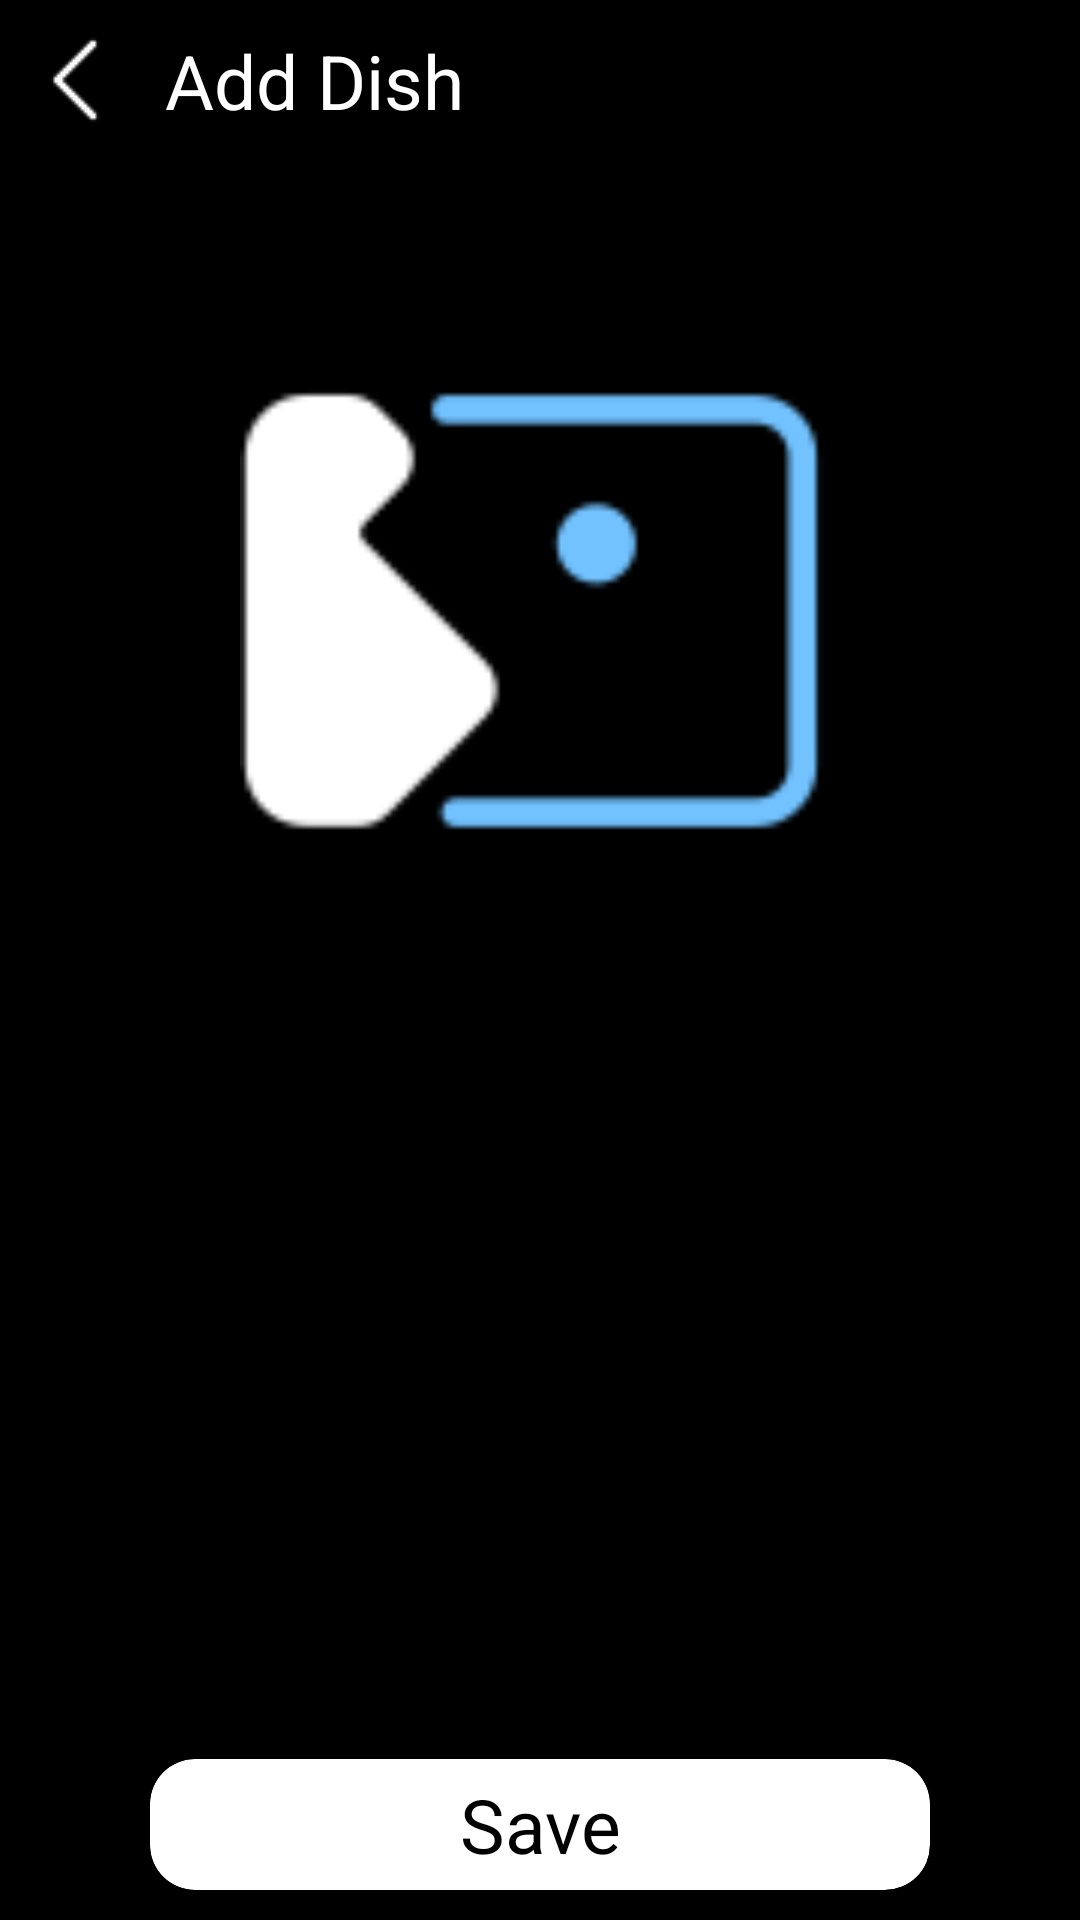

Icon click points for this 1080px x 1920px phone screenshot, format [x,y]:
back: [75,80]
